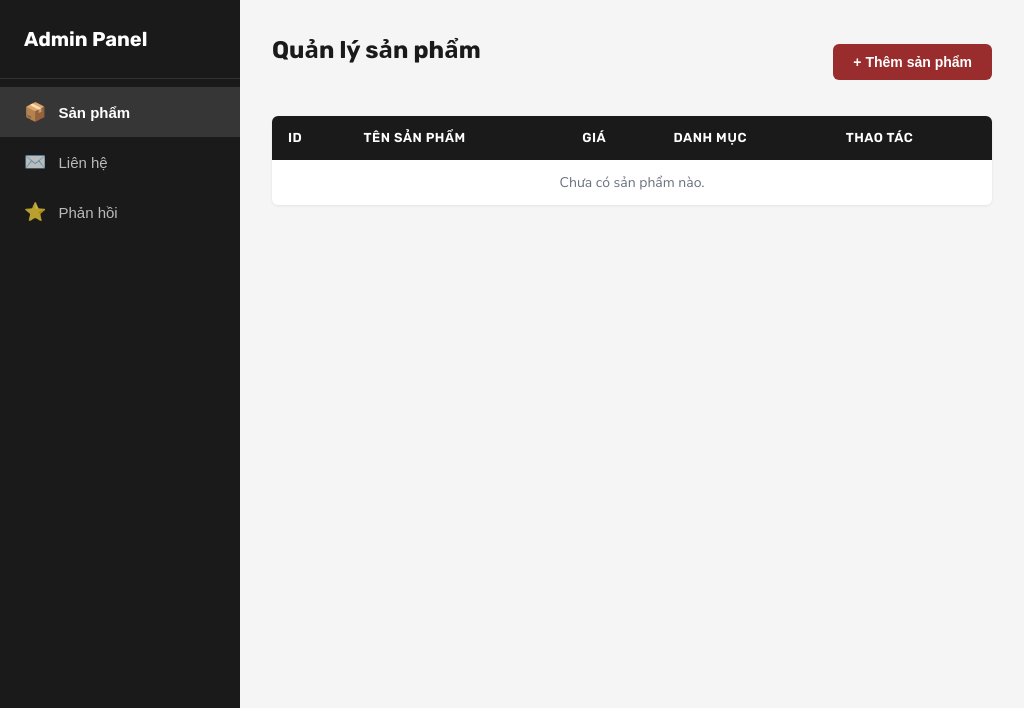
Scenario: AdminPage › opens add product form
Click the button "+ Thêm sản phẩm".
click(913, 62)  # box [833,44,992,80]
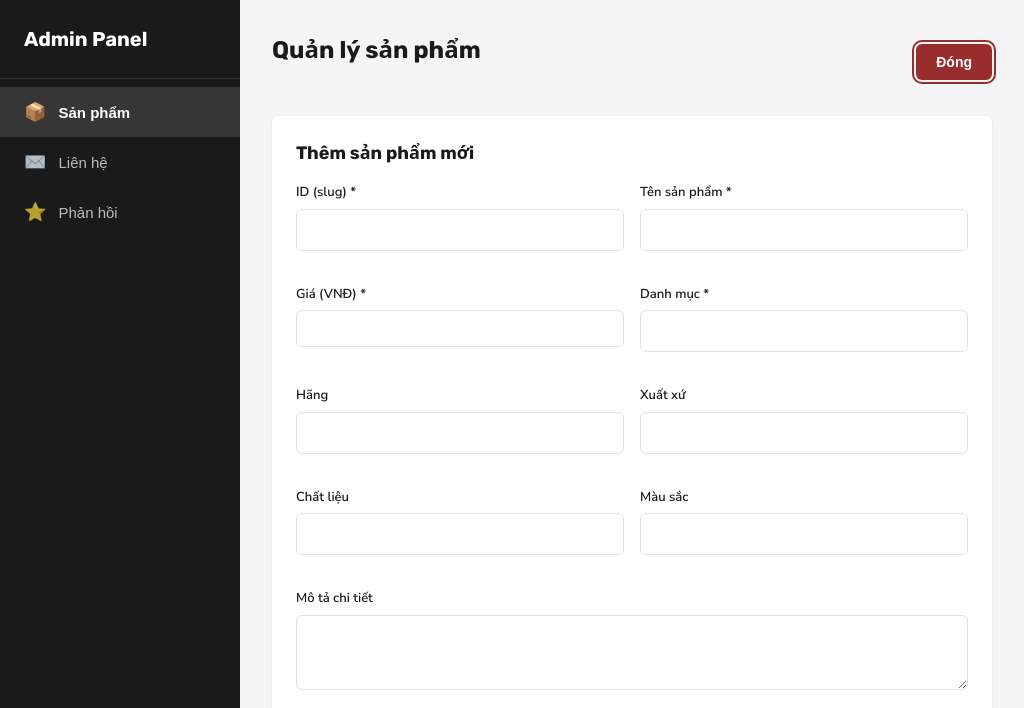
Expected: the field labelled "ID (slug) *" is shown, [296,208,624,250]
Expected: the heading "Thêm sản phẩm mới" is shown, [296,142,474,164]
